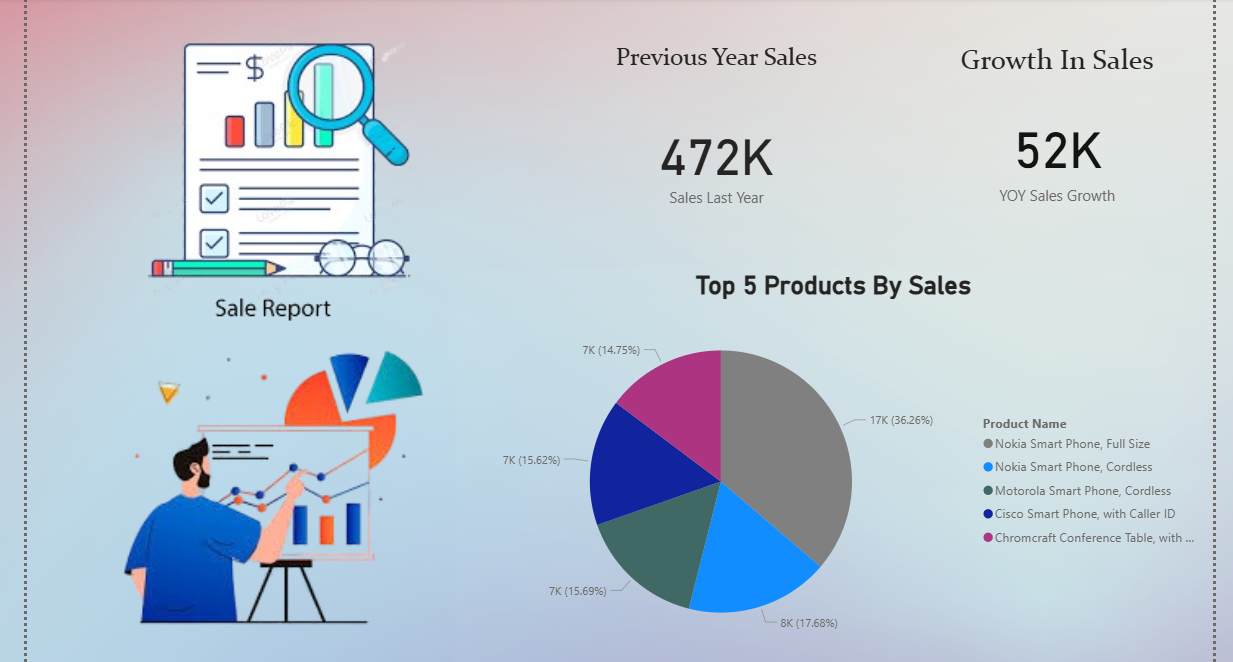

What the dashboard file says about the page in this screenshot:
{"tool":"powerbi","page":{"name":"Page 3","canvas":[1280,720],"ordinal":2},"visuals":[{"type":"pieChart","title":"Top 5 Products By Sales","fields":{"Category":["Order Data.Product Name"],"Y":["Order Data.Total Sales"]},"box":[461.1,294.8,818.3,425.2],"z":0},{"type":"cardVisual","title":"Growth In Sales","fields":{"Data":["Order Data.YOY Sales Growth"]},"box":[944,48,336,224],"z":1000},{"type":"image","box":[0,16,544,368],"z":2000},{"type":"image","box":[0,336,528,384],"z":3000},{"type":"card","title":"Previous Year Sales","fields":{"Values":["Order Data.Sales Last Year"]},"box":[544,48,400,224],"z":4000}]}

Visuals, with their boxes on the page's 1280x720 design canvas (x1, y1, x2, y2). These are canvas units, not pixel positions in the 1233x662 screenshot, which may show the page scaled, cropped or inside an application window:
"Top 5 Products By Sales" pieChart: <box>461,295,1279,720</box>
"Growth In Sales" cardVisual: <box>944,48,1280,272</box>
image: <box>0,16,544,384</box>
image: <box>0,336,528,720</box>
"Previous Year Sales" card: <box>544,48,944,272</box>
